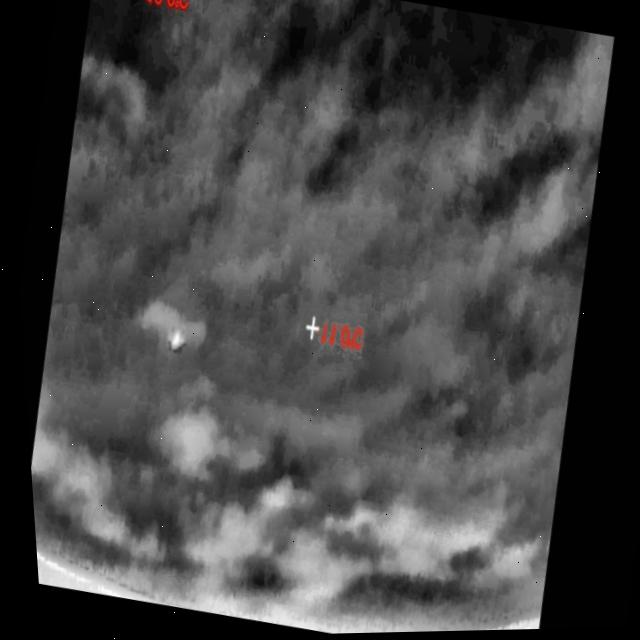drone: (157, 322, 184, 357)
